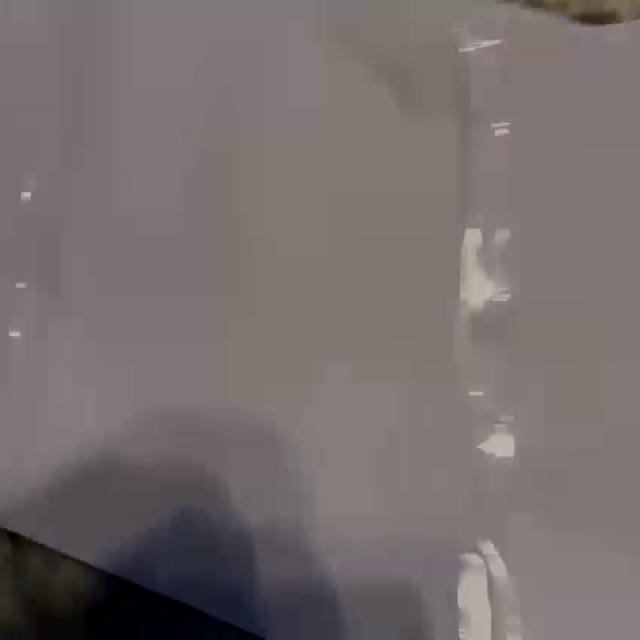road: (0, 1, 640, 639)
